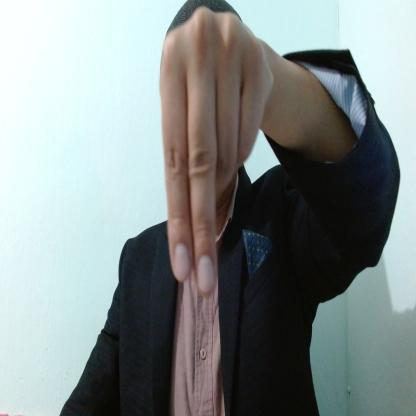N: (160, 5, 274, 295)
